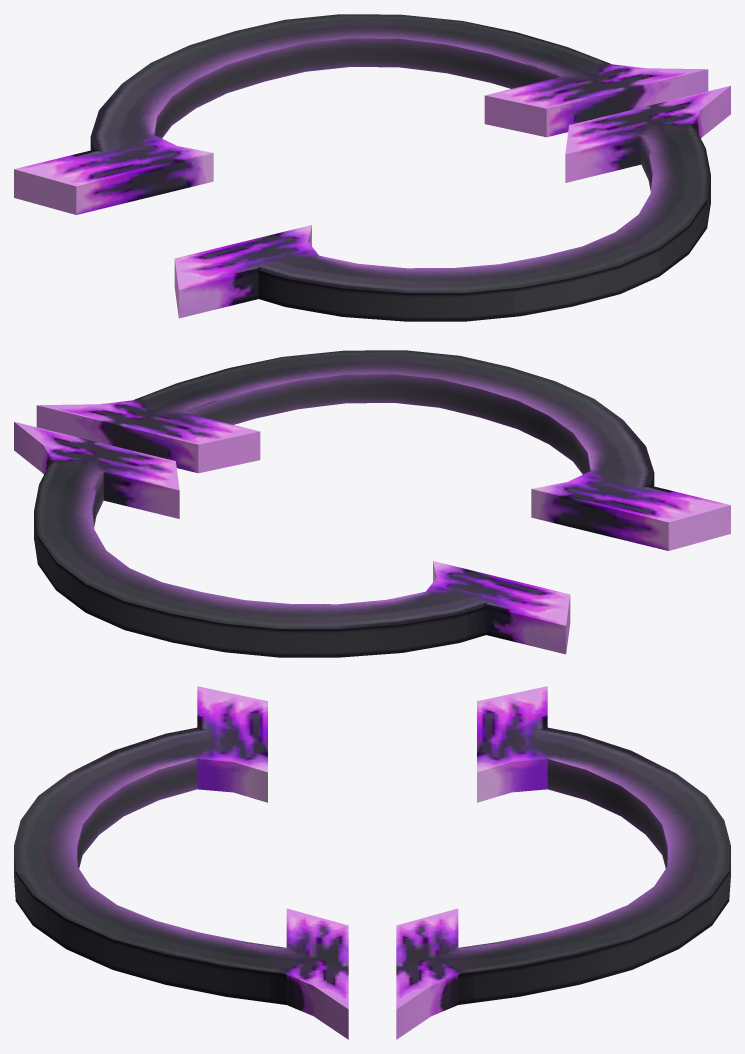
File: shield0020.fbx
3 views of the same model, one above another, from view 1: azimuth 30°, elevation 25°; view 2: azimuth 150°, elevation 25°; view 3: azimuth 270°, elevation 25° (orthographic). The views are drawn at different scales.
Parts seen in each view (by area): view 1: shield0020_m; view 2: shield0020_m; view 3: shield0020_m.
Boxes of the visible parts, box(x1,y1,x2,y2) form: shield0020_m: box(14, 14, 730, 321); shield0020_m: box(14, 350, 730, 657); shield0020_m: box(14, 686, 730, 1039).
Bounding box in the file's own units: 0.6265 × 0.0275 × 0.5872.
